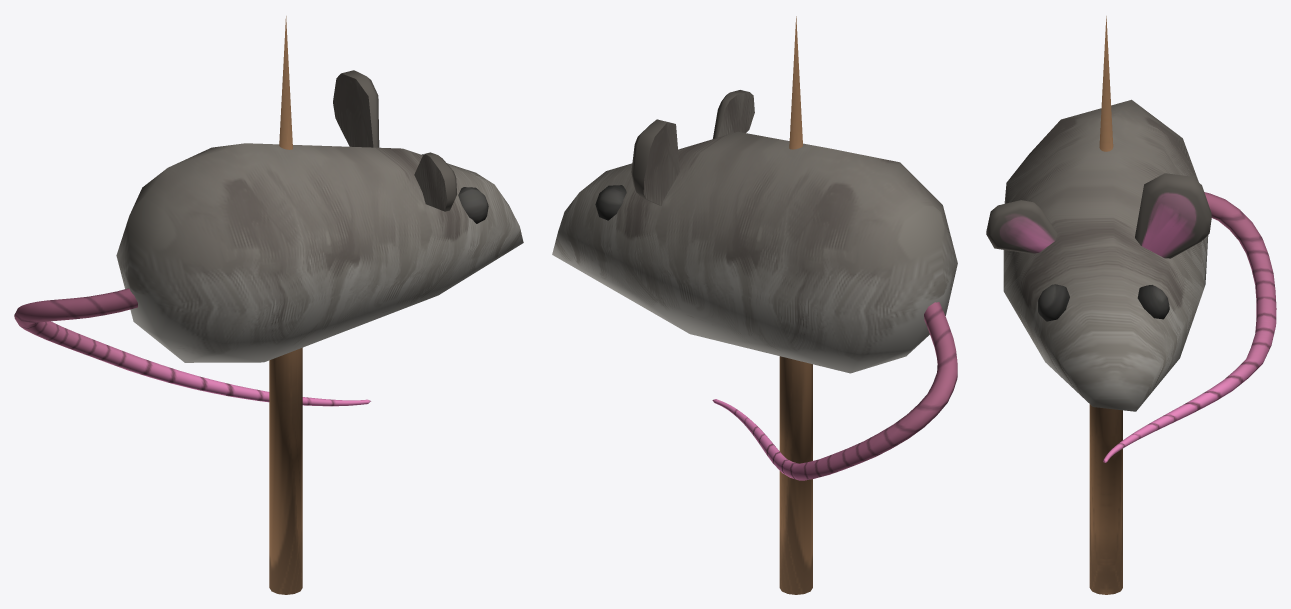
File: RatStick.fbx
The picture shows the model from 3 angles, left to right: view 1: azimuth 30°, elevation 25°; view 2: azimuth 150°, elevation 25°; view 3: azimuth 270°, elevation 25°; orthographic projection.
Parts seen in each view (by area): view 1: RatStick; view 2: RatStick; view 3: RatStick.
Boxes of the visible parts, x1,y1,x2,y2 form: RatStick: (14,16,523,594); RatStick: (552,16,957,594); RatStick: (986,16,1276,594).
Size of the model in its own units: 28.26 by 35.19 by 16.12.
